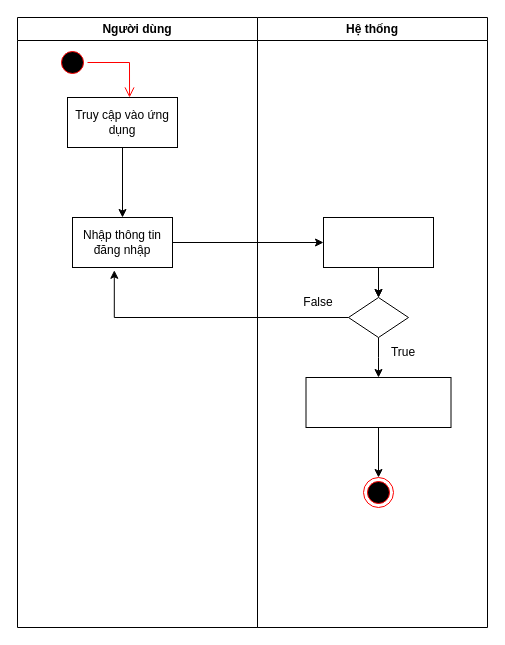
Some shapes in this 505 by 645 pixel diagram are drawn without their labels. The centre of each missing label's shape, as x and y in pixels:
Hiện giao diện tính năng: point (378, 402)
Kiểm tra thông tin: point (378, 242)
